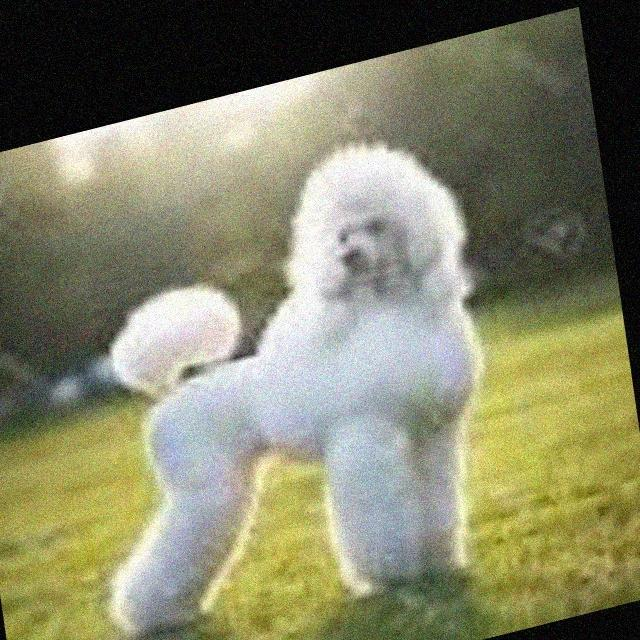dog: (22, 91, 556, 640)
